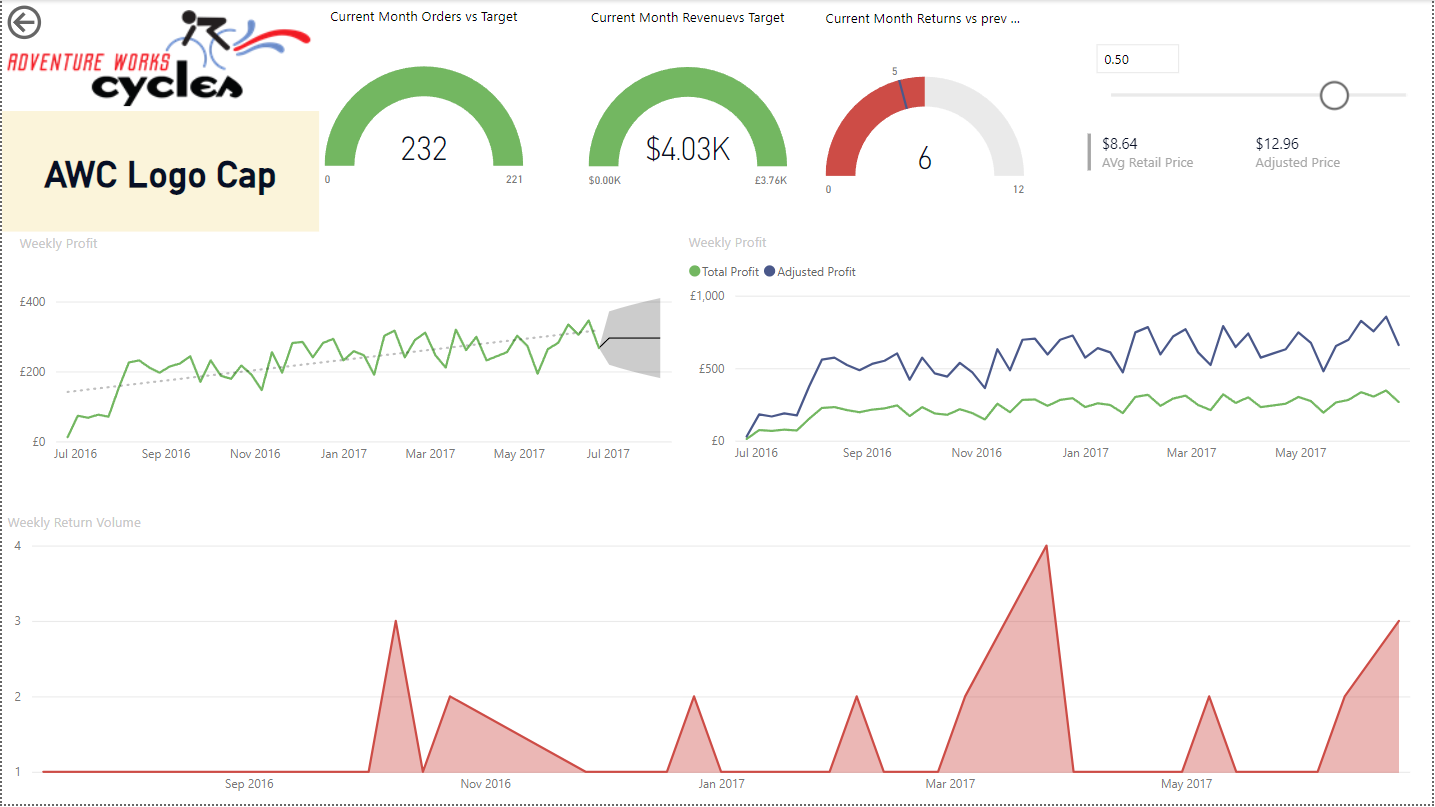

Layout of this report page (visuals, bound fields, positions):
{"tool":"powerbi","page":{"name":"Product Detail","canvas":[1280,720],"ordinal":1},"visuals":[{"type":"image","box":[0,0,283.5,103.8],"z":0},{"type":"lineChart","title":"Weekly Profit","fields":{"Y":["AW_Sales.Total Profit"],"Category":["AW_Calendar_Lookup.Start of Week"]},"box":[10.7,208.4,603.7,215.6],"z":1000},{"type":"areaChart","title":"Weekly Return Volume","fields":{"Category":["AW_Calendar_Lookup.Start of Week"],"Y":["AW_Returns.Total Returns"]},"box":[0,458.1,1280,261.6],"z":2000},{"type":"gauge","title":"Current Month Orders vs Target","fields":{"Y":["AW_Sales.Total Orders"],"MaxValue":["AW_Sales.Order target"]},"box":[283.5,5.4,187.8,202.1],"z":3000},{"type":"gauge","title":"Current Month Revenuevs Target","fields":{"Y":["AW_Sales.Total Renevue"],"MaxValue":["AW_Sales.Revenue Target"]},"box":[520.4,5.8,187.7,201.3],"z":4000},{"type":"gauge","title":"Current Month Returns vs prev Month","fields":{"Y":["AW_Returns.Total Returns"],"TargetValue":["AW_Returns.Pre Month Returns"]},"box":[732.4,6.8,187.7,201.3],"z":5000},{"type":"card","fields":{"Values":["Min(AW_Product_Lookup.ProductName)"]},"box":[0,99.3,283.5,108.2],"z":6000},{"type":"actionButton","box":[0,0,100,40],"z":7000},{"type":"slicer","fields":{"Values":["Price Adjustment %.Price Adjustment %"]},"box":[966.8,29.2,313.2,85.6],"z":8000},{"type":"multiRowCard","fields":{"Values":["AW_Product_Lookup.AVg Retail Price","AW_Product_Lookup.Adjusted Price"]},"box":[966.8,114.8,297.6,92.4],"z":9000},{"type":"lineChart","title":"Weekly Profit","fields":{"Y":["AW_Sales.Total Profit","AW_Sales.Adjusted Profit"],"Category":["AW_Calendar_Lookup.Start of Week"]},"box":[610,207.5,669.9,215.6],"z":10000}]}

Visuals, with their boxes in screenshot pixels (x1, y1, x2, y2), scaled from the page's 1280x720 canvas onto the 1435x807 screenshot:
image: <box>0,0,318,116</box>
"Weekly Profit" lineChart: <box>12,234,689,475</box>
"Weekly Return Volume" areaChart: <box>0,513,1434,806</box>
"Current Month Orders vs Target" gauge: <box>318,6,528,233</box>
"Current Month Revenuevs Target" gauge: <box>583,7,794,232</box>
"Current Month Returns vs prev Month" gauge: <box>821,8,1032,233</box>
card - Min(AW_Product_Lookup.ProductName): <box>0,111,318,233</box>
actionButton: <box>0,0,112,45</box>
slicer - Price Adjustment %.Price Adjustment %: <box>1084,33,1434,129</box>
multiRowCard - AW_Product_Lookup.AVg Retail Price x AW_Product_Lookup.Adjusted Price: <box>1084,129,1418,232</box>
"Weekly Profit" lineChart: <box>684,233,1434,474</box>
